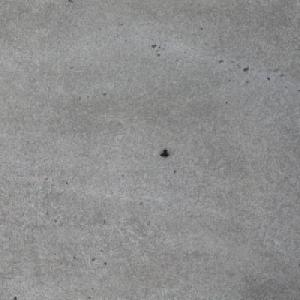BoltWasher: (159, 149, 169, 157)
